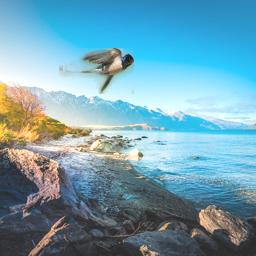Swallow: (59, 48, 134, 94)
